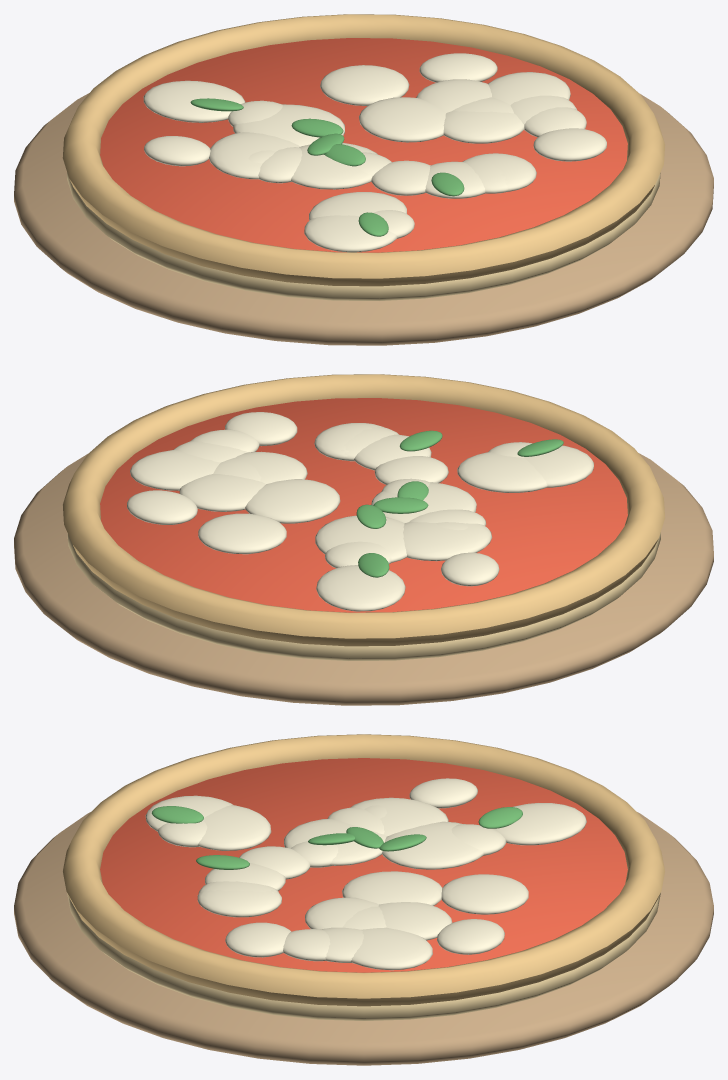
The model's file is pizza.glb.
3 views of the same model, one above another, from view 1: azimuth 30°, elevation 25°; view 2: azimuth 150°, elevation 25°; view 3: azimuth 270°, elevation 25° (orthographic).
Visible parts, largest first — view 1: part3, part0, part2, part4, part1, part5; view 2: part3, part0, part2, part4, part1, part5; view 3: part3, part0, part2, part4, part1, part5.
Part boxes in pixels (x1,y1,x2,y2): part3: [100, 38, 627, 252]; part0: [14, 93, 713, 345]; part2: [62, 14, 664, 286]; part4: [143, 53, 606, 252]; part1: [67, 172, 660, 300]; part5: [190, 98, 464, 236]; part3: [100, 398, 627, 612]; part0: [14, 453, 713, 705]; part2: [63, 374, 665, 646]; part4: [127, 412, 593, 611]; part1: [67, 532, 660, 660]; part5: [356, 430, 563, 577]; part3: [100, 758, 627, 972]; part0: [14, 812, 713, 1065]; part2: [63, 734, 664, 1006]; part4: [145, 778, 586, 970]; part1: [67, 893, 660, 1020]; part5: [151, 806, 522, 869].
Bounding box in the file's own units: 0.33 × 0.0364 × 0.33.
